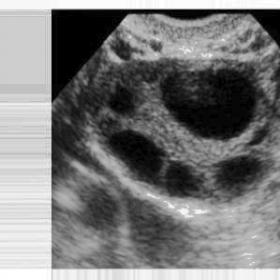PCOS: (160, 76, 254, 135), (122, 127, 161, 176), (218, 161, 257, 188), (170, 164, 198, 195), (112, 91, 134, 114), (119, 36, 132, 63)
